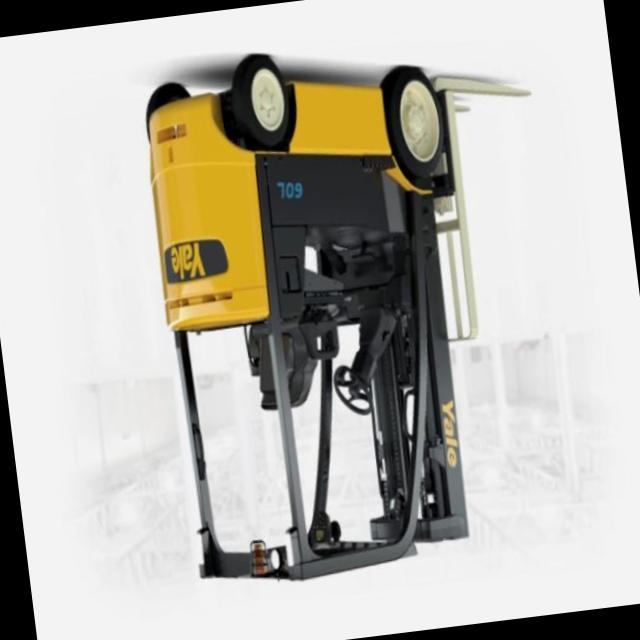forklift: (122, 5, 522, 604)
